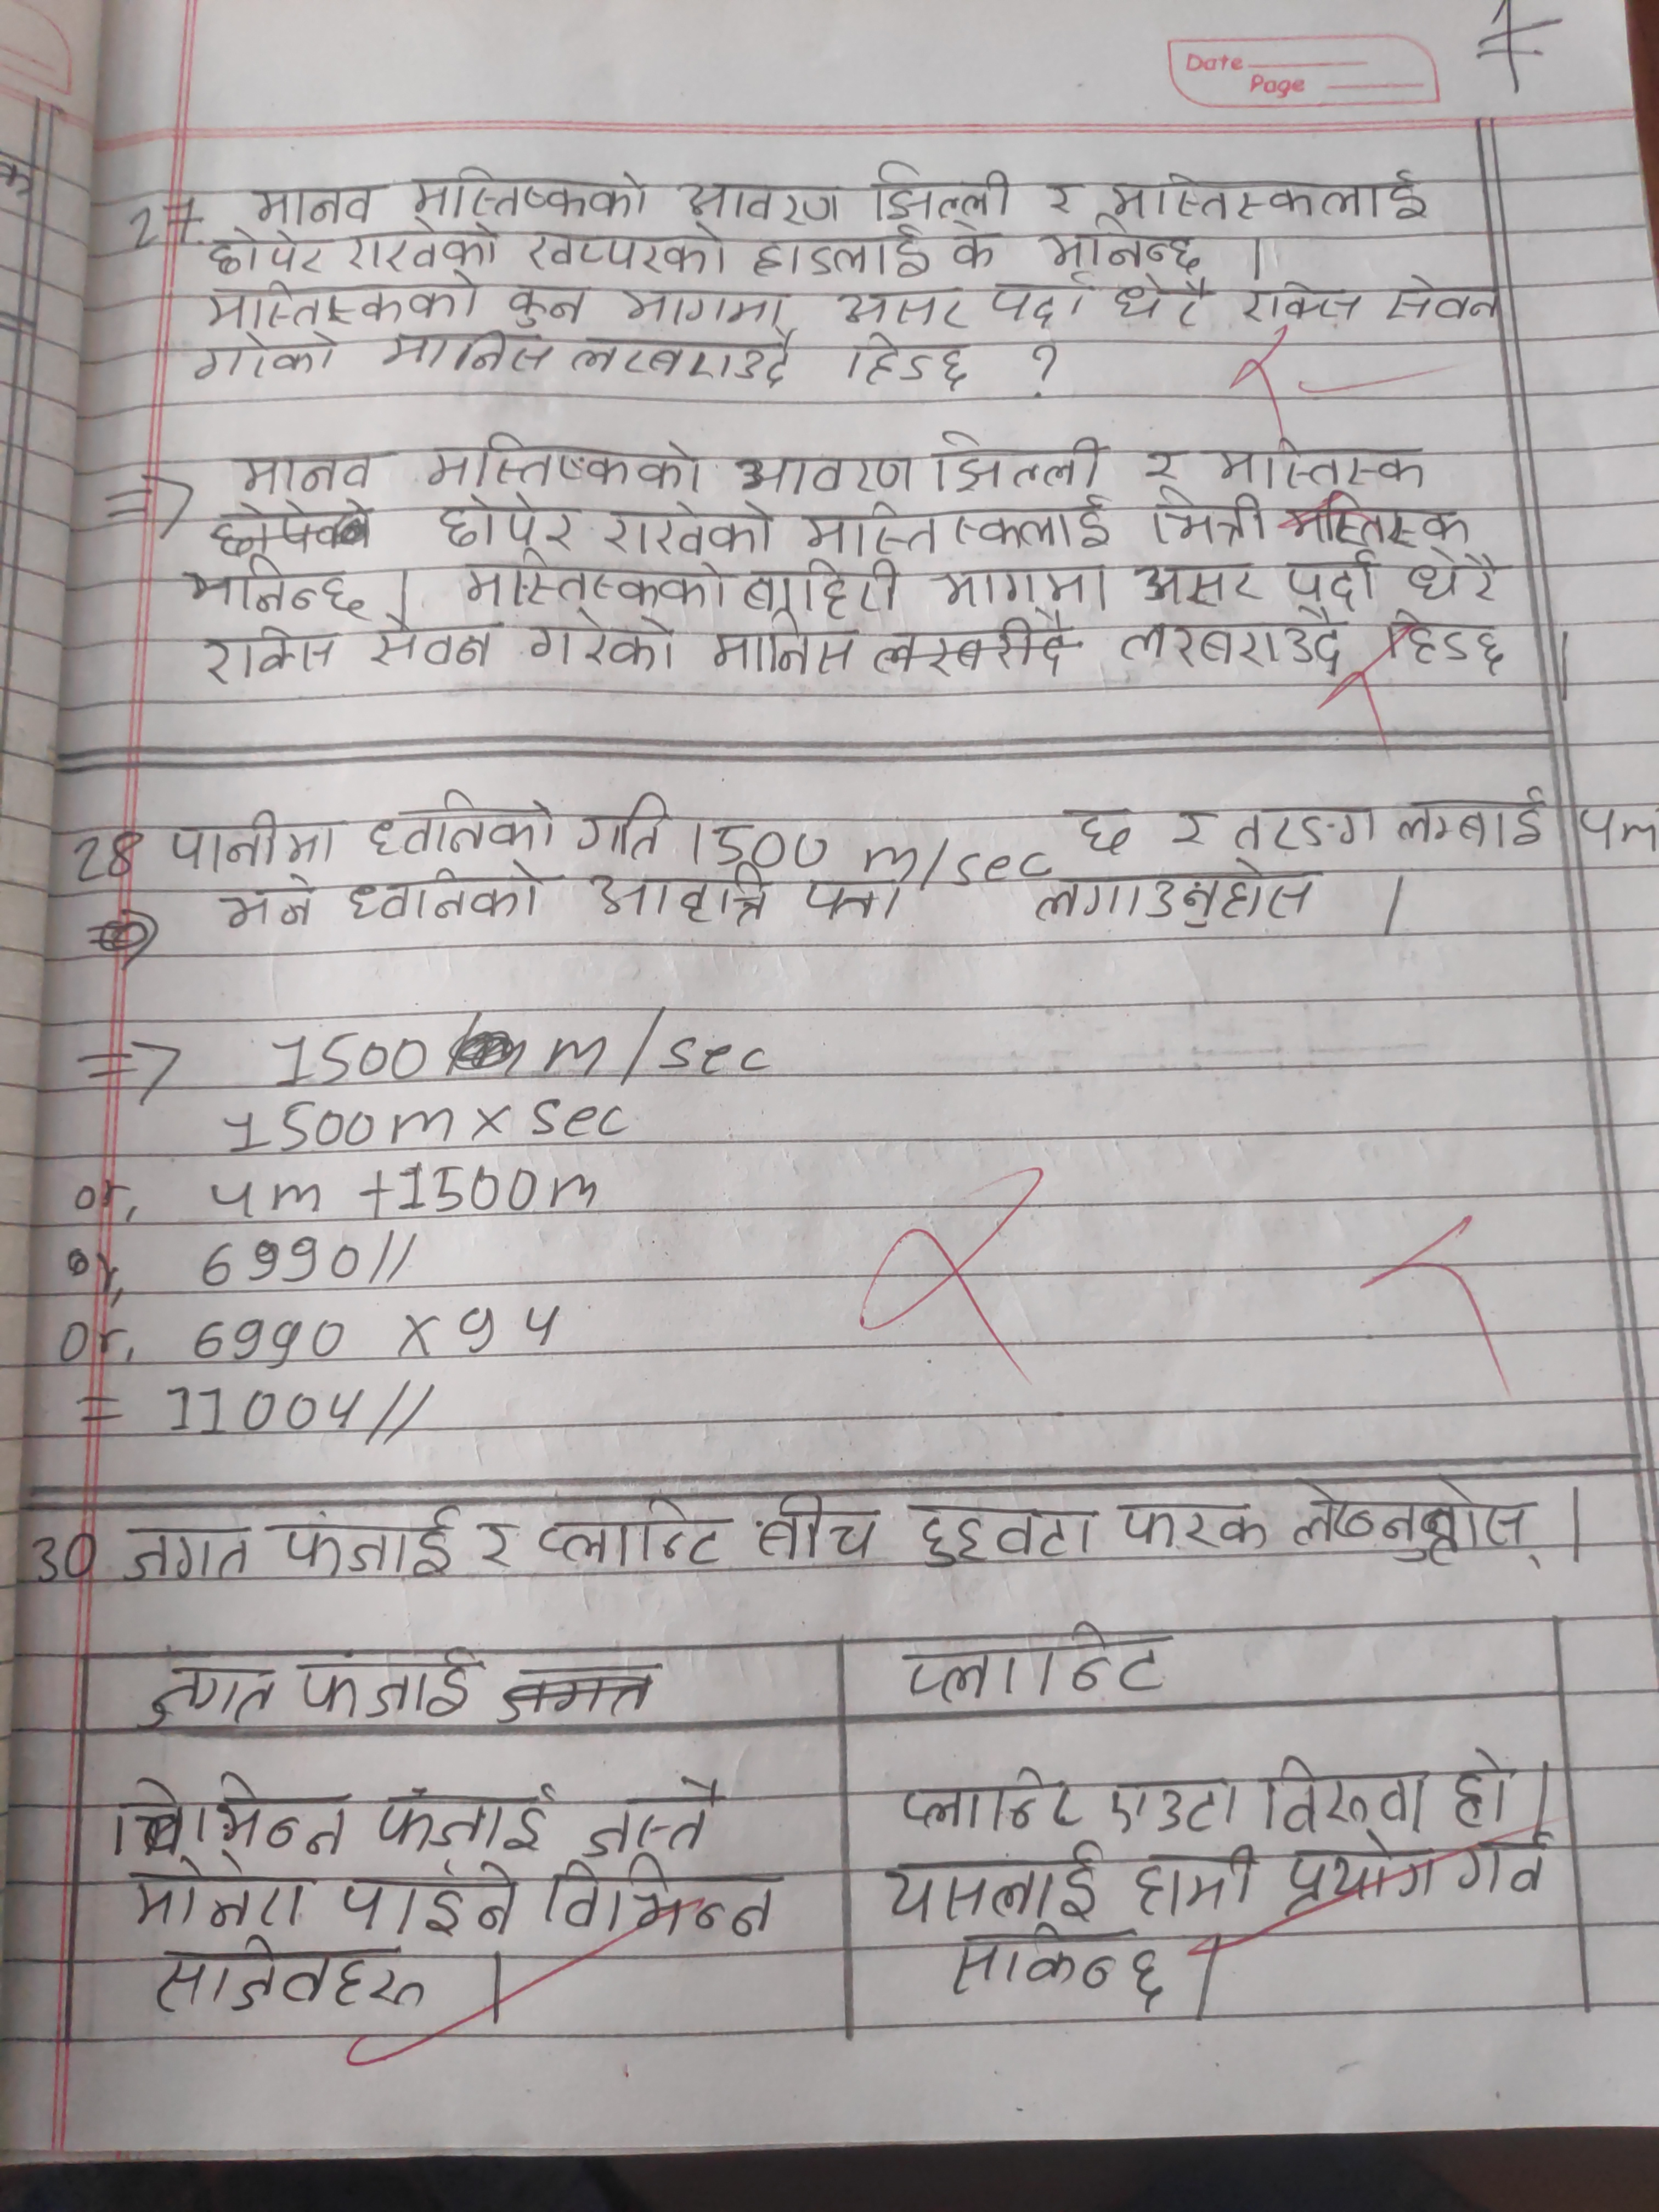text: (150, 1923, 432, 2017), (106, 1766, 352, 1862), (897, 1620, 1178, 1703), (540, 1850, 784, 1946), (1021, 860, 1328, 935), (1290, 1480, 1551, 1566), (420, 427, 709, 502), (950, 1918, 1171, 2013), (1105, 160, 1436, 223), (800, 496, 1127, 556), (875, 1836, 1105, 1919), (532, 1493, 734, 1575), (453, 556, 734, 613), (274, 1494, 455, 1580), (342, 1858, 519, 1944), (904, 1489, 1098, 1568), (340, 857, 551, 928), (408, 162, 652, 223), (1103, 611, 1347, 672), (115, 1857, 315, 1930), (572, 329, 805, 392), (1262, 1749, 1432, 1834), (376, 1773, 554, 1855), (580, 855, 779, 927), (894, 1761, 1087, 1834), (197, 277, 486, 326), (927, 420, 1115, 493), (577, 1771, 732, 1857), (206, 230, 509, 273), (1279, 484, 1473, 552), (296, 1651, 483, 1721), (173, 556, 361, 624), (356, 792, 565, 853), (1284, 1831, 1446, 1909), (1213, 434, 1436, 489), (1387, 780, 1556, 853), (599, 493, 782, 559), (739, 554, 906, 624), (519, 604, 683, 674), (1129, 1834, 1265, 1918), (861, 157, 1019, 226), (164, 806, 340, 869), (526, 223, 734, 275), (136, 1656, 279, 1731), (701, 611, 861, 678), (749, 1489, 890, 1564), (723, 444, 924, 496), (373, 322, 554, 380), (1117, 1491, 1269, 1559), (1375, 604, 1509, 681), (744, 232, 939, 282), (612, 282, 800, 334), (1100, 1768, 1246, 1834), (1033, 223, 1209, 277), (364, 611, 500, 681), (674, 176, 847, 230), (124, 1519, 260, 1587), (197, 620, 340, 685), (432, 491, 587, 550), (833, 272, 967, 340), (931, 563, 1112, 611), (186, 329, 342, 385), (1143, 484, 1272, 550), (835, 331, 969, 394), (1384, 270, 1513, 331), (1237, 273, 1370, 333), (1225, 803, 1380, 853), (572, 784, 671, 860), (232, 446, 382, 496), (1455, 1827, 1554, 1902), (1284, 542, 1387, 611), (1136, 559, 1269, 613), (1108, 268, 1209, 334), (1408, 542, 1502, 610), (246, 181, 383, 226), (798, 871, 910, 927), (1450, 1740, 1520, 1827), (218, 873, 315, 932), (983, 277, 1093, 329), (502, 277, 599, 331), (1063, 805, 1148, 855), (464, 1514, 523, 1569), (946, 219, 1002, 277), (1164, 808, 1220, 853), (1033, 172, 1082, 221), (1138, 444, 1188, 484)
